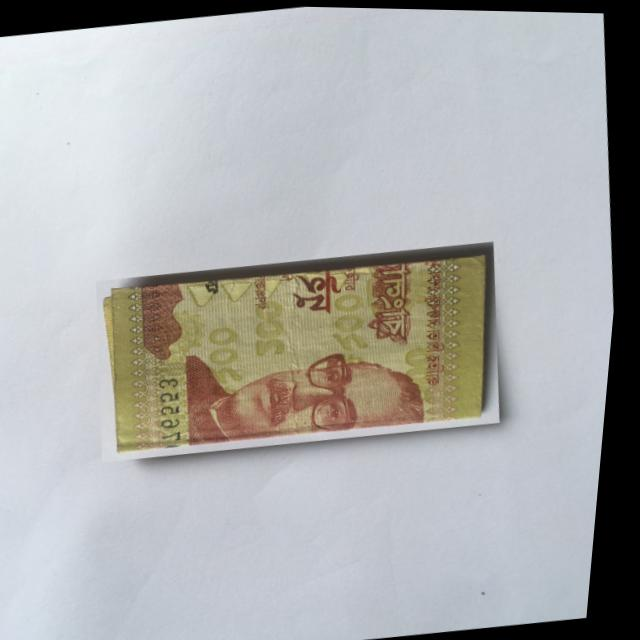Taka: (88, 232, 519, 468)
